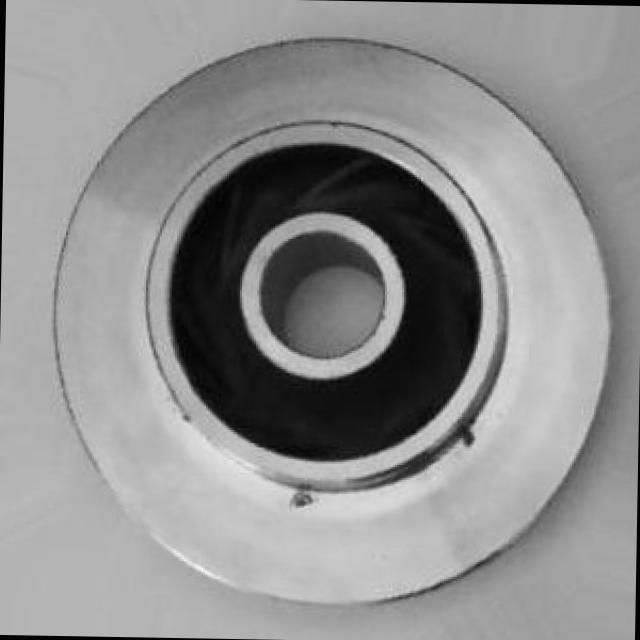Defect: (286, 476, 320, 514), (453, 428, 489, 458)
